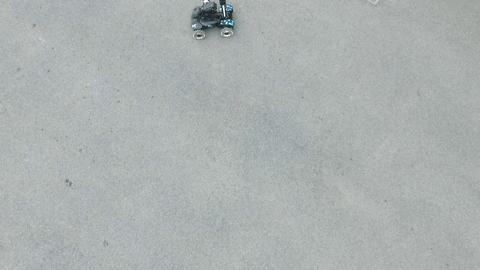chariot: (190, 1, 236, 40)
